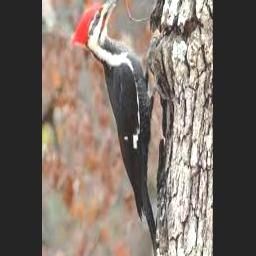Woodpecker: (71, 0, 157, 256)
